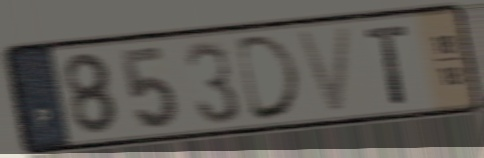3: (183, 37, 242, 128)
5: (117, 43, 180, 132)
8: (61, 49, 121, 137)
D: (234, 31, 306, 125)
T: (362, 22, 413, 108)
V: (292, 22, 356, 119)
